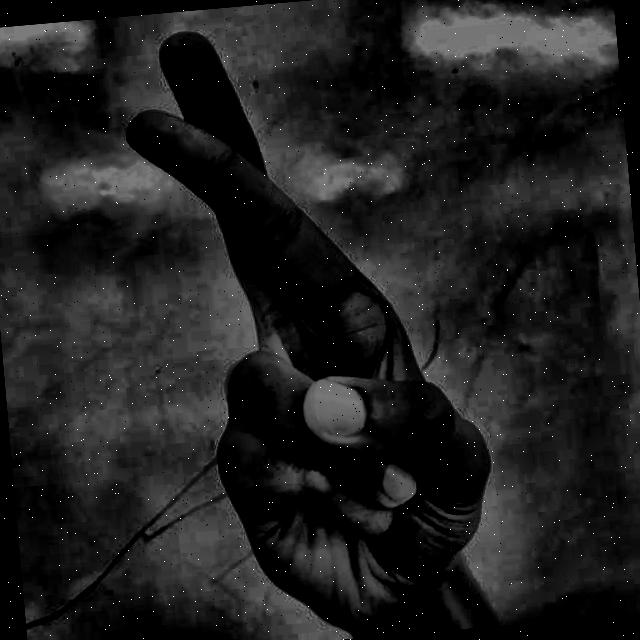Ra: (62, 0, 528, 640)
